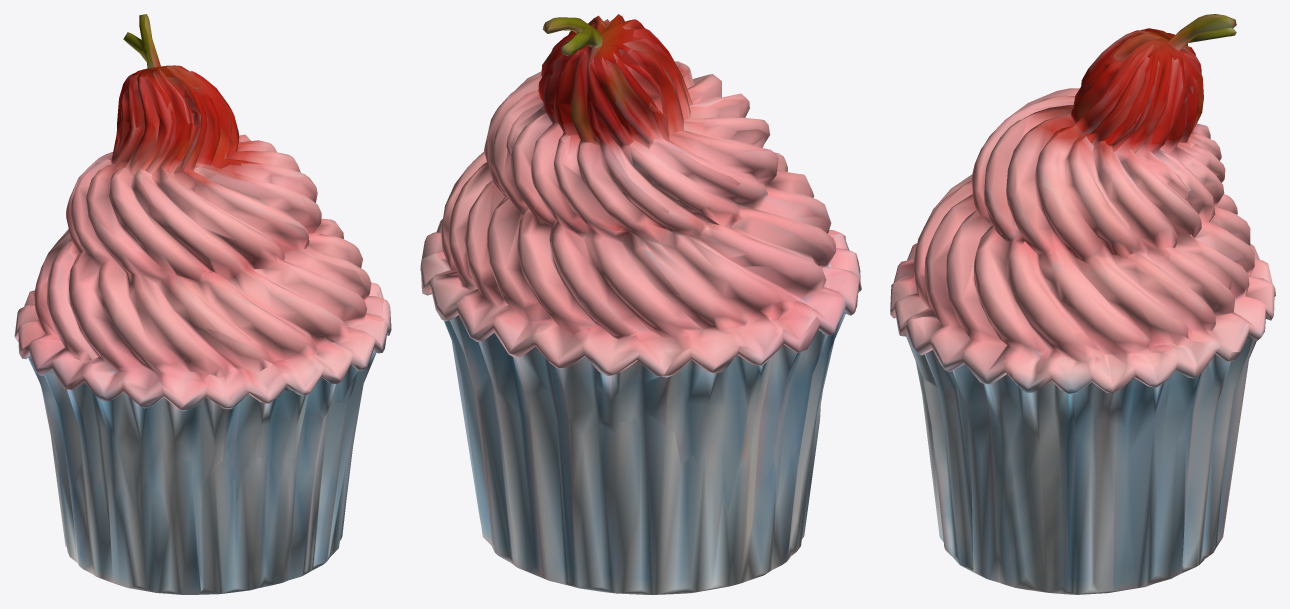
The model's file is cupcake.fbx.
3 views of the same model, side by side, from view 1: azimuth 30°, elevation 25°; view 2: azimuth 150°, elevation 25°; view 3: azimuth 270°, elevation 25° (orthographic). The views are drawn at different scales.
Visible parts, largest first — view 1: node_0; view 2: node_0; view 3: node_0.
Boxes of the visible parts, x1=… form: node_0: x1=14, y1=14, x2=391, y2=594; node_0: x1=420, y1=14, x2=861, y2=594; node_0: x1=890, y1=14, x2=1275, y2=594.
Size of the model in its own units: 20.76 by 28.65 by 19.24.
